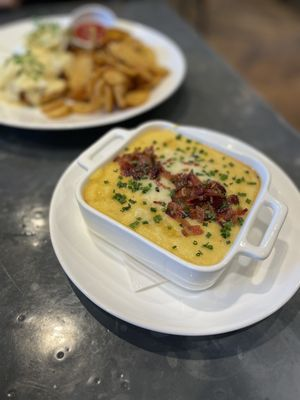curry: (1, 0, 299, 384)
sandwich: (80, 121, 280, 272)
